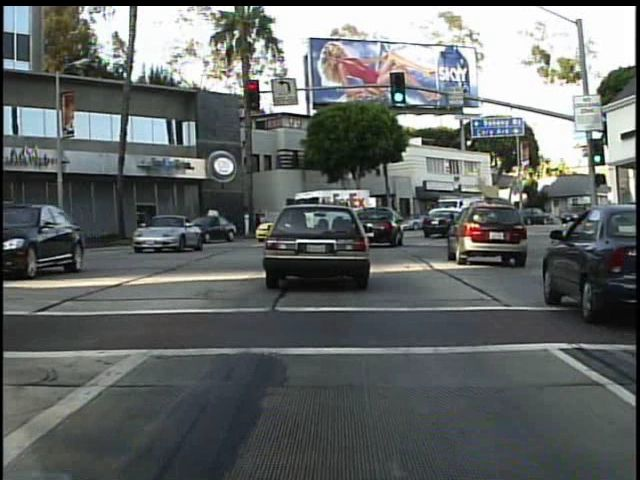person: (254, 207, 263, 230)
